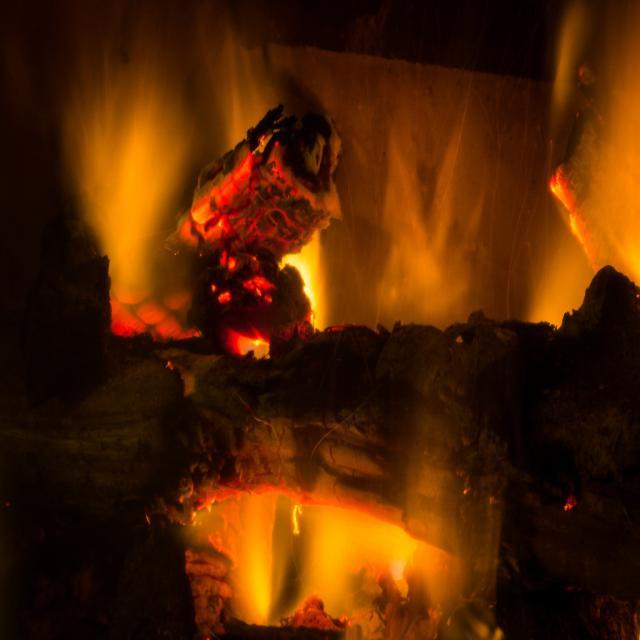Fire: (285, 228, 324, 318)
